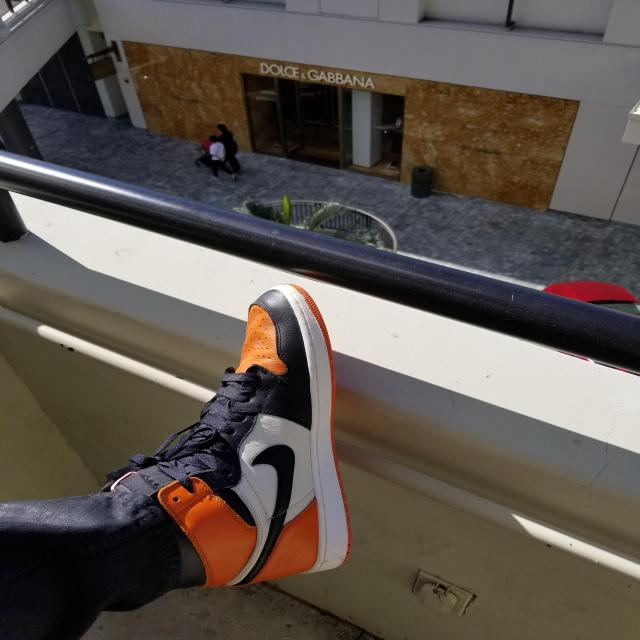shoe: (103, 280, 357, 591)
